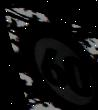Speed Limit -60-: (7, 9, 98, 110)
